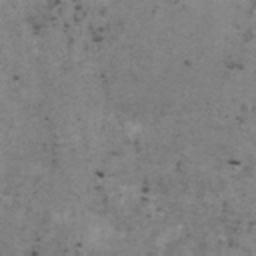Oxide scale of temperature system: (28, 0, 109, 79), (91, 138, 183, 204), (223, 201, 256, 248), (225, 114, 246, 166), (40, 142, 60, 156), (225, 59, 244, 72), (12, 73, 22, 81), (31, 248, 41, 256), (183, 59, 192, 65), (74, 241, 82, 247)
